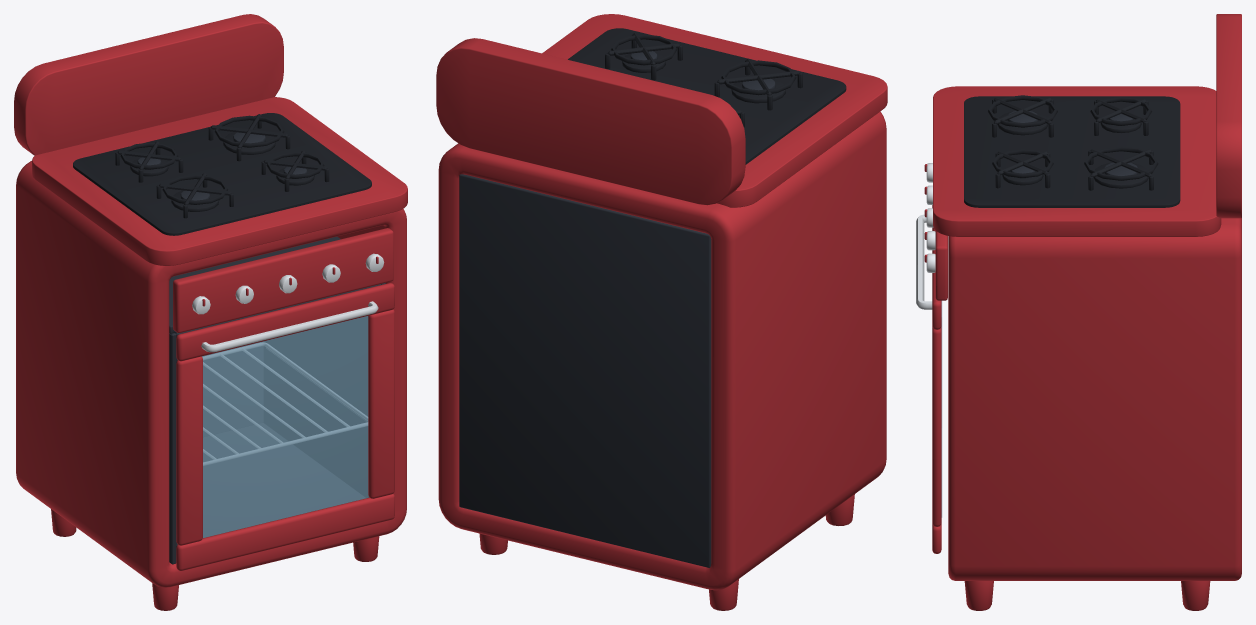
Rendered from fogao_ferro_vermelho.glb.
3 renders of one model, left to right at view 1: azimuth 30°, elevation 25°; view 2: azimuth 150°, elevation 25°; view 3: azimuth 270°, elevation 25°, orthographic. The views are drawn at different scales.
Visible parts, largest first — view 1: fogao_ferro_vermelho, porta_forno; view 2: fogao_ferro_vermelho; view 3: fogao_ferro_vermelho, porta_forno.
Boxes of the visible parts, box(x1,y1,x2,y2) form: fogao_ferro_vermelho: box(14, 14, 407, 610); porta_forno: box(176, 283, 394, 570); fogao_ferro_vermelho: box(436, 14, 887, 610); fogao_ferro_vermelho: box(924, 14, 1241, 610); porta_forno: box(916, 205, 942, 553).
Bounding box in the file's own units: 0.62 × 1.04 × 0.633.
2 materials, 1 textured.
